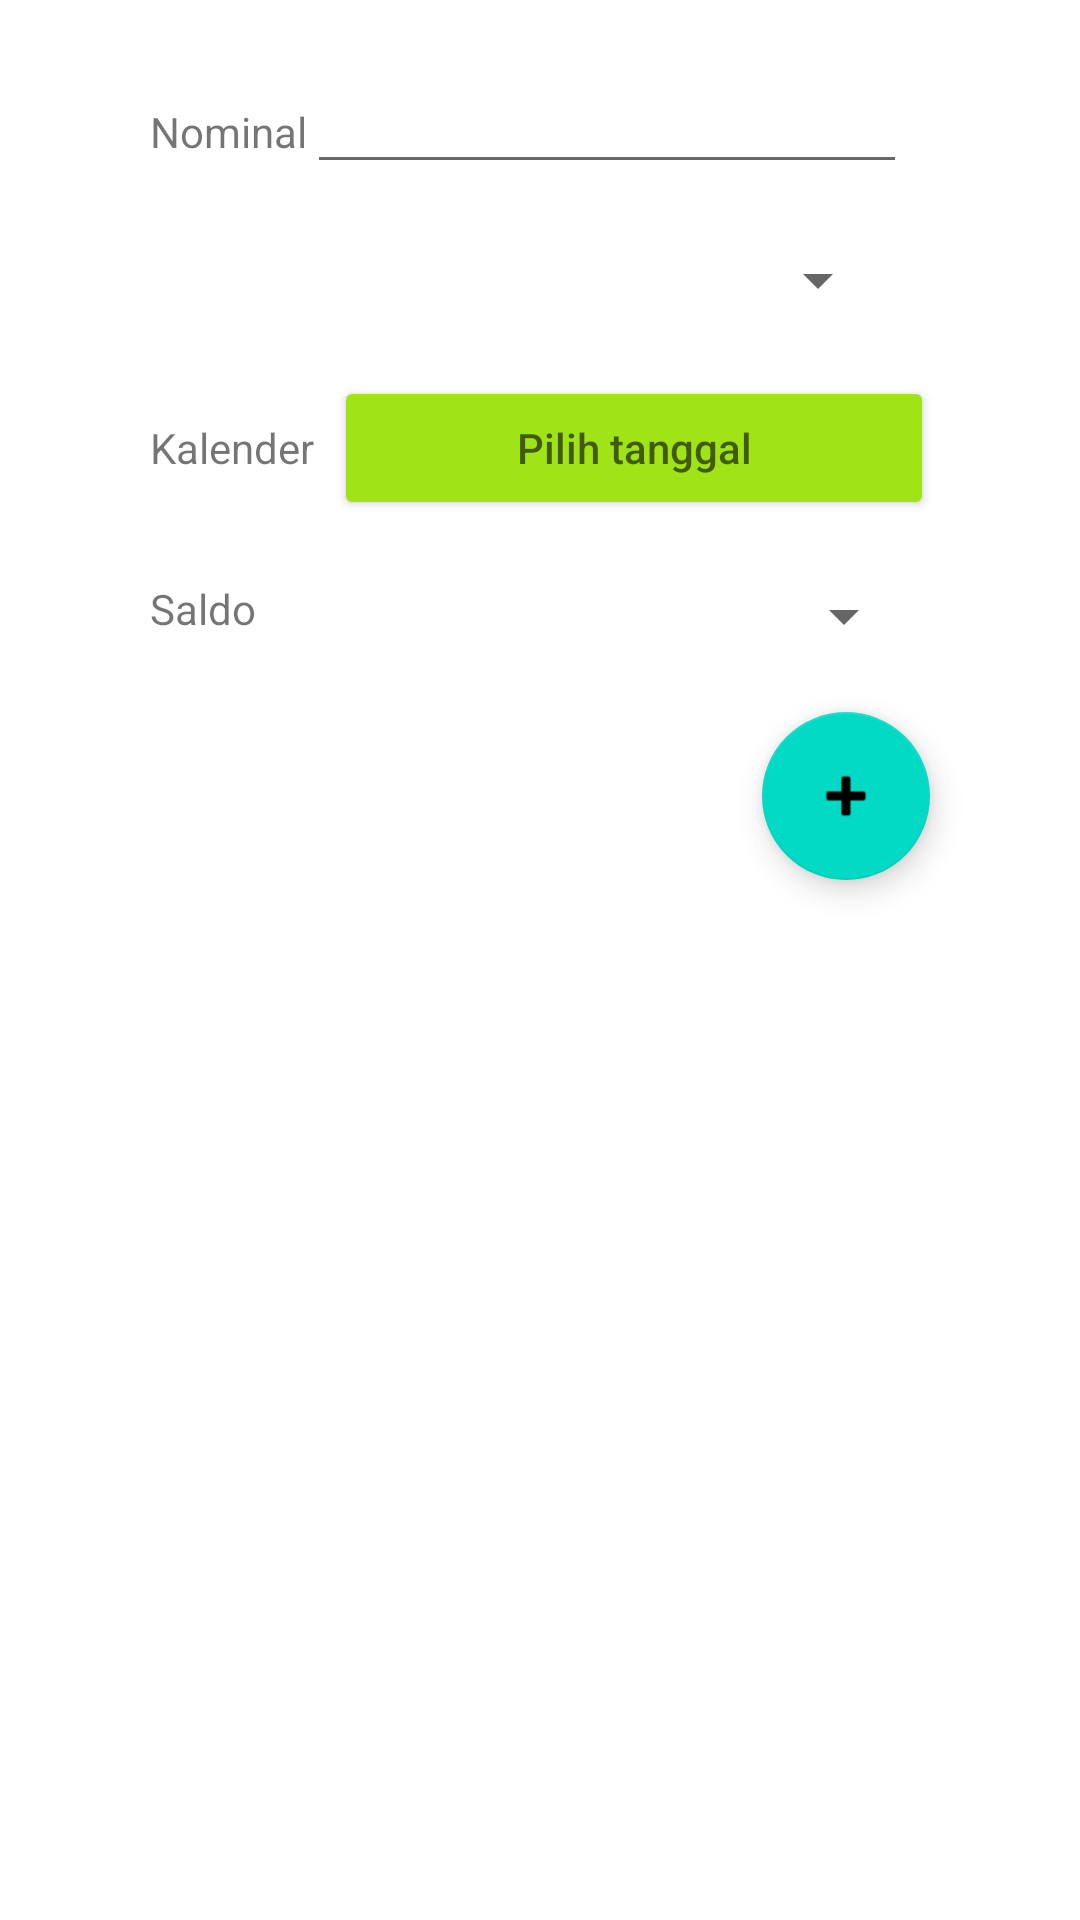

Named icons in this screenshot (1080*1920) and their bounding boxes, (x1, y1, x2, y2):
add: (762, 712, 930, 880)
